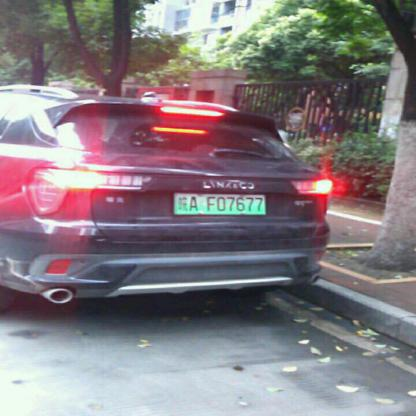lp: (174, 192, 265, 214)
